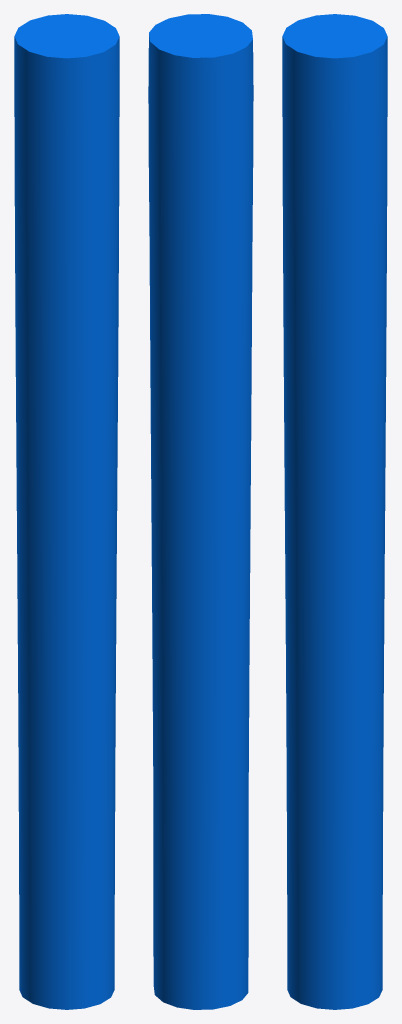
Rendered from Poste.fbx.
3 views of the same model, side by side, from view 1: azimuth 90°, elevation 25°; view 2: azimuth 150°, elevation 25°; view 3: azimuth 270°, elevation 25° (orthographic).
Visible parts, largest first — view 1: poste; view 2: poste; view 3: poste.
Boxes of the visible parts, box(x1,y1,x2,y2) form: poste: box(14, 14, 119, 1009); poste: box(148, 14, 253, 1009); poste: box(282, 14, 387, 1009).
Bounding box in the file's own units: 200 × 2000 × 200.
